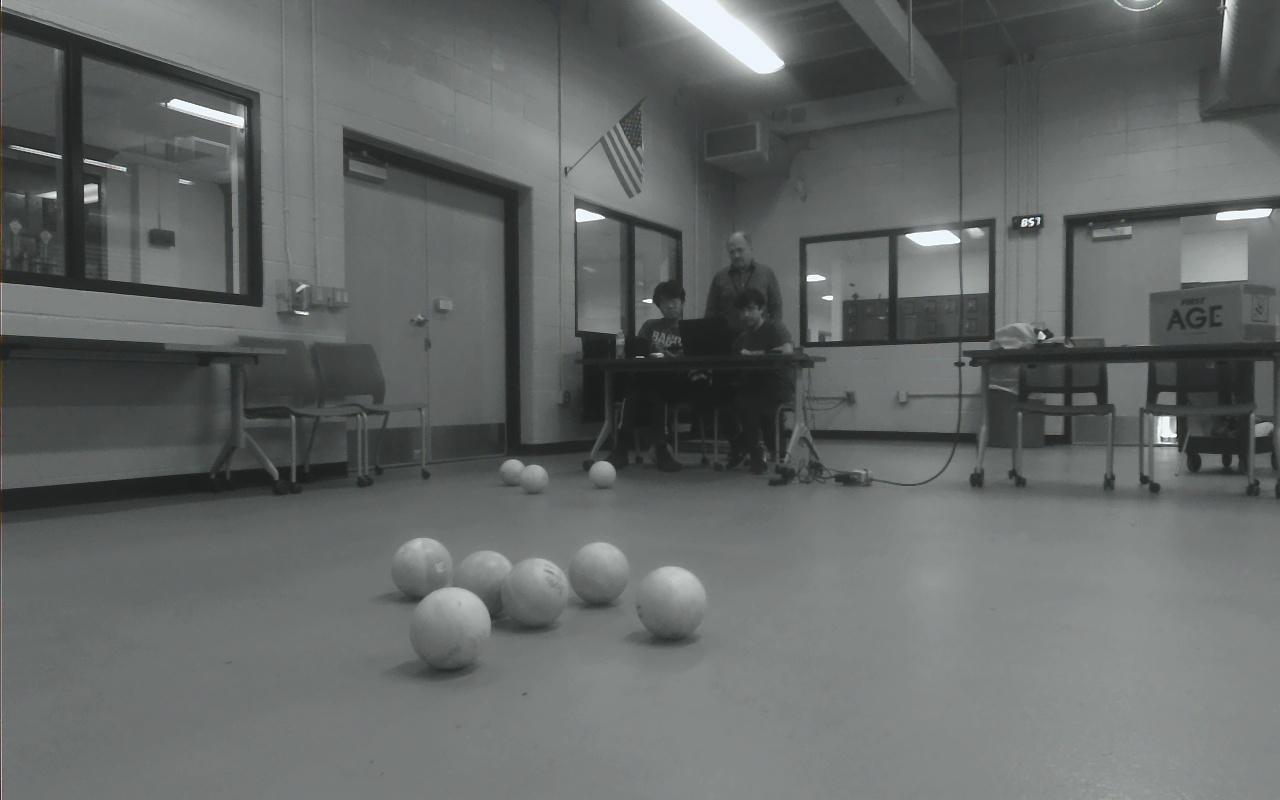Fuel: (410, 588, 492, 671), (635, 566, 707, 640), (500, 558, 568, 628), (454, 550, 513, 617), (568, 541, 628, 605), (392, 538, 453, 600), (520, 464, 548, 493), (589, 461, 616, 488), (499, 459, 525, 486)
